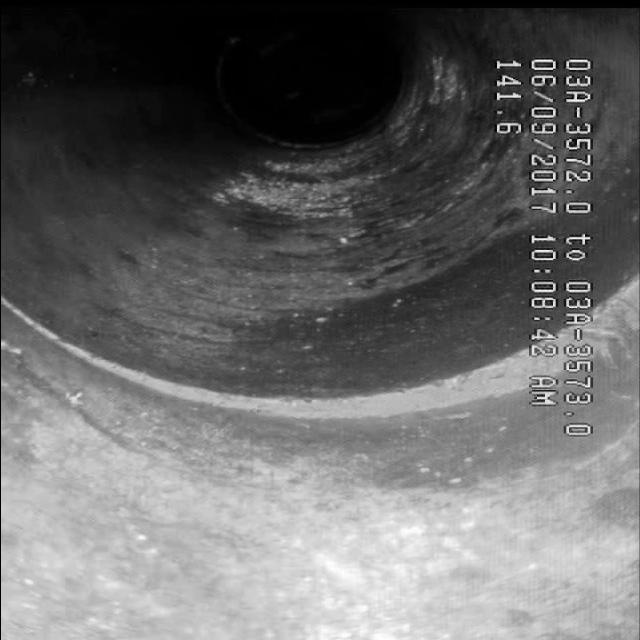Crack: (7, 350, 259, 502)
